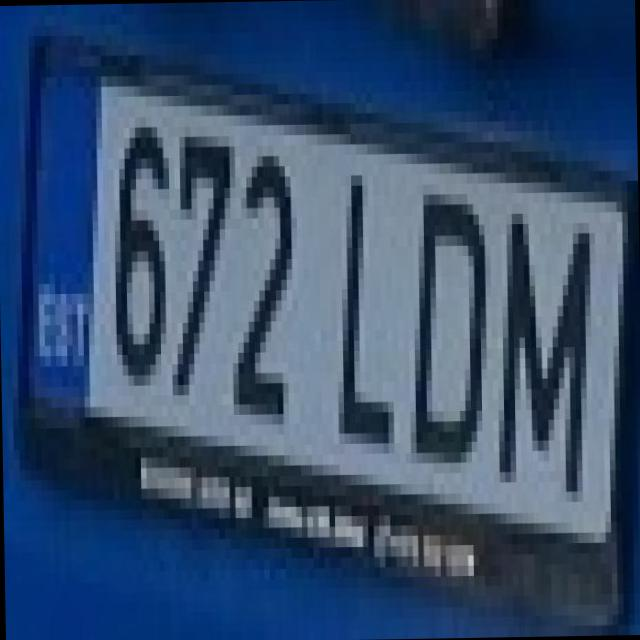2: (212, 124, 300, 414)
6: (95, 96, 172, 376)
7: (156, 104, 238, 384)
D: (389, 162, 494, 464)
L: (311, 143, 405, 455)
M: (472, 191, 599, 493)
